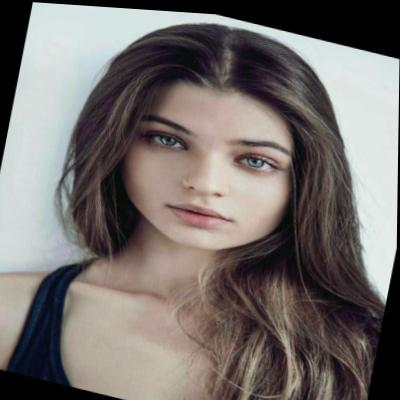netural: (113, 67, 308, 266)
